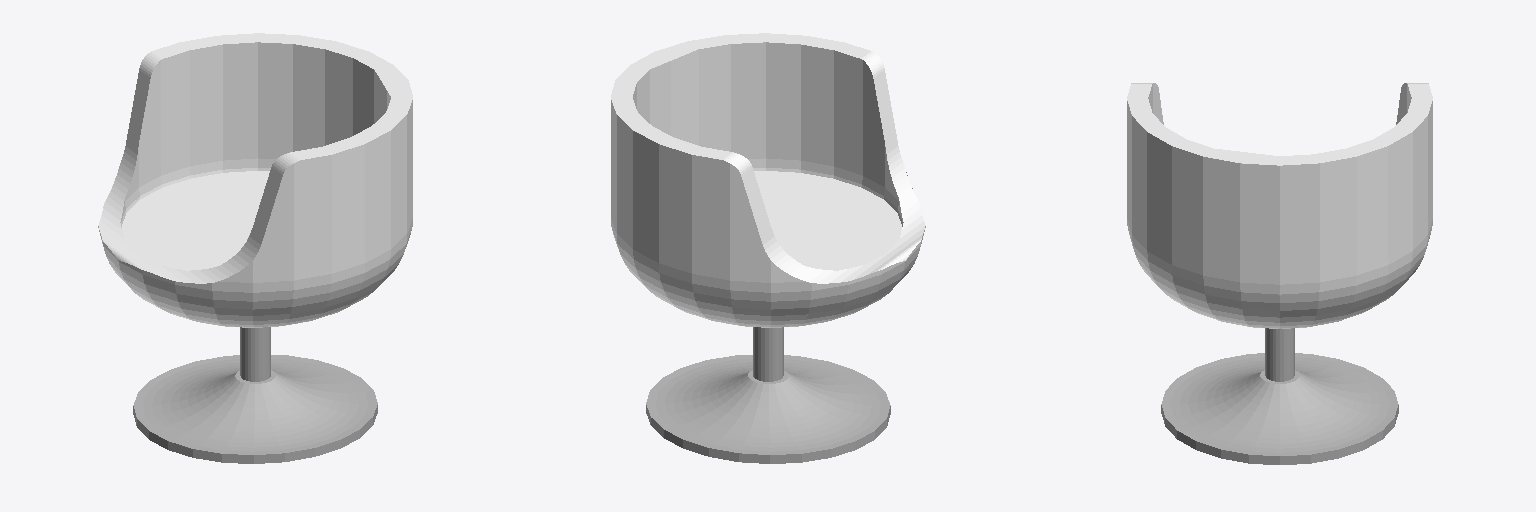
The model's file is testChaiseObj.obj.
The picture shows the model from 3 angles: view 1: azimuth 30°, elevation 25°; view 2: azimuth 150°, elevation 25°; view 3: azimuth 270°, elevation 25°; orthographic projection.
Parts seen in each view (by area): view 1: Model; view 2: Model; view 3: Model.
Part boxes in pixels (x1,y1,x2,y2): Model: (98,33,412,463); Model: (611,33,925,463); Model: (1127,83,1432,464).
Bounding box in the file's own units: 25.32 × 27.68 × 24.41.